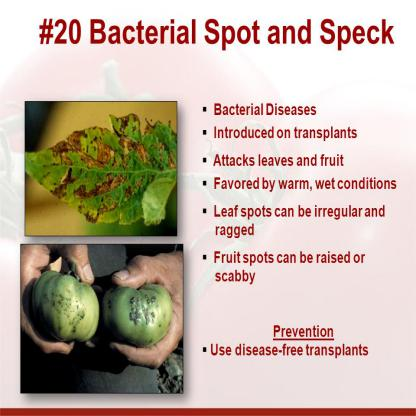tomato leaf bacterial spot: (26, 113, 178, 229)
